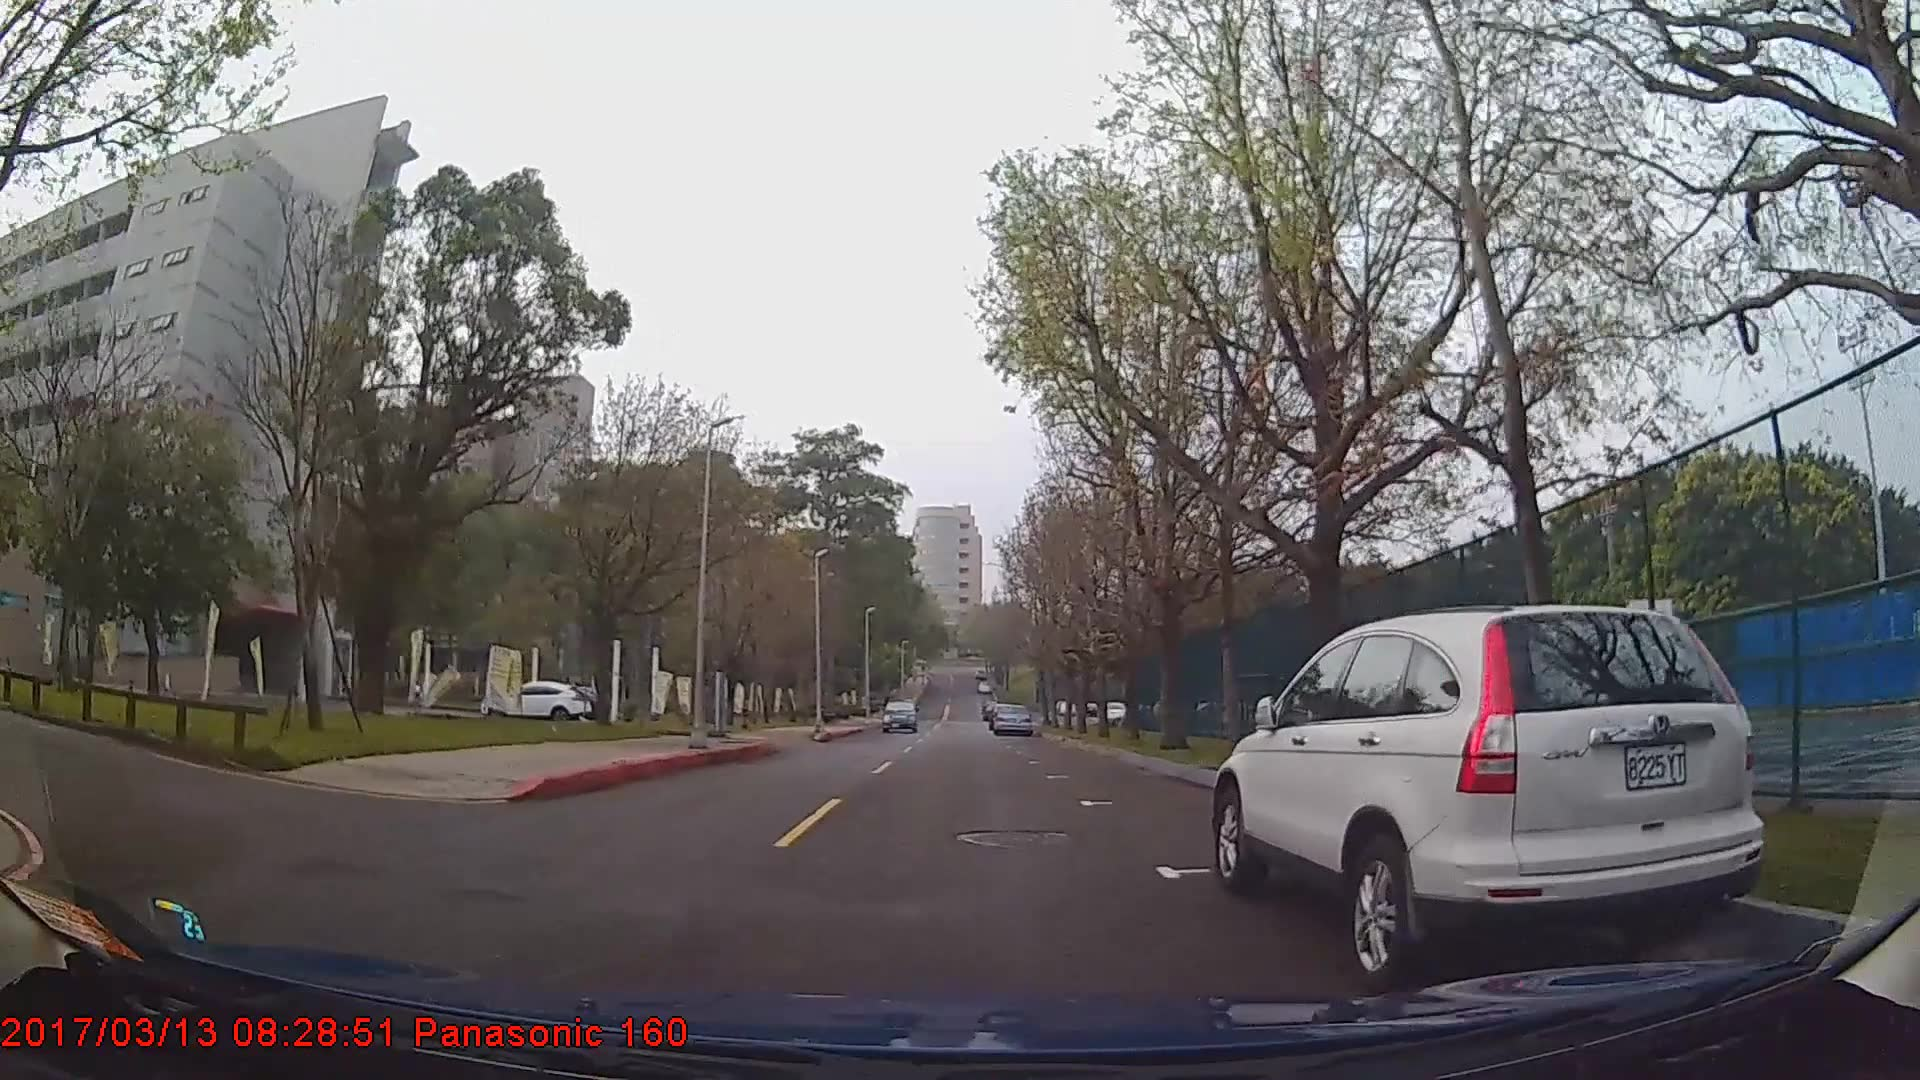vehicle: (1211, 600, 1768, 986), (487, 680, 591, 723), (992, 700, 1031, 735), (882, 699, 916, 733)
